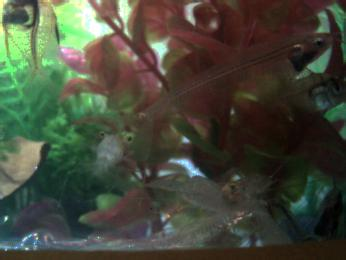X-ray fish: (3, 1, 59, 91), (268, 65, 344, 115)
glassfish: (124, 31, 336, 155)
siberian prawn: (147, 170, 258, 220), (88, 126, 139, 182)
